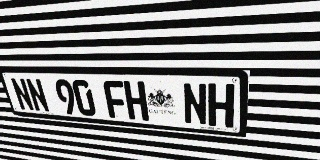0: (71, 79, 97, 116)
9: (53, 79, 79, 115)
F: (102, 80, 128, 119)
H: (208, 83, 235, 128), (123, 81, 149, 121)
N: (182, 83, 208, 126), (25, 78, 51, 113), (10, 78, 35, 111)
